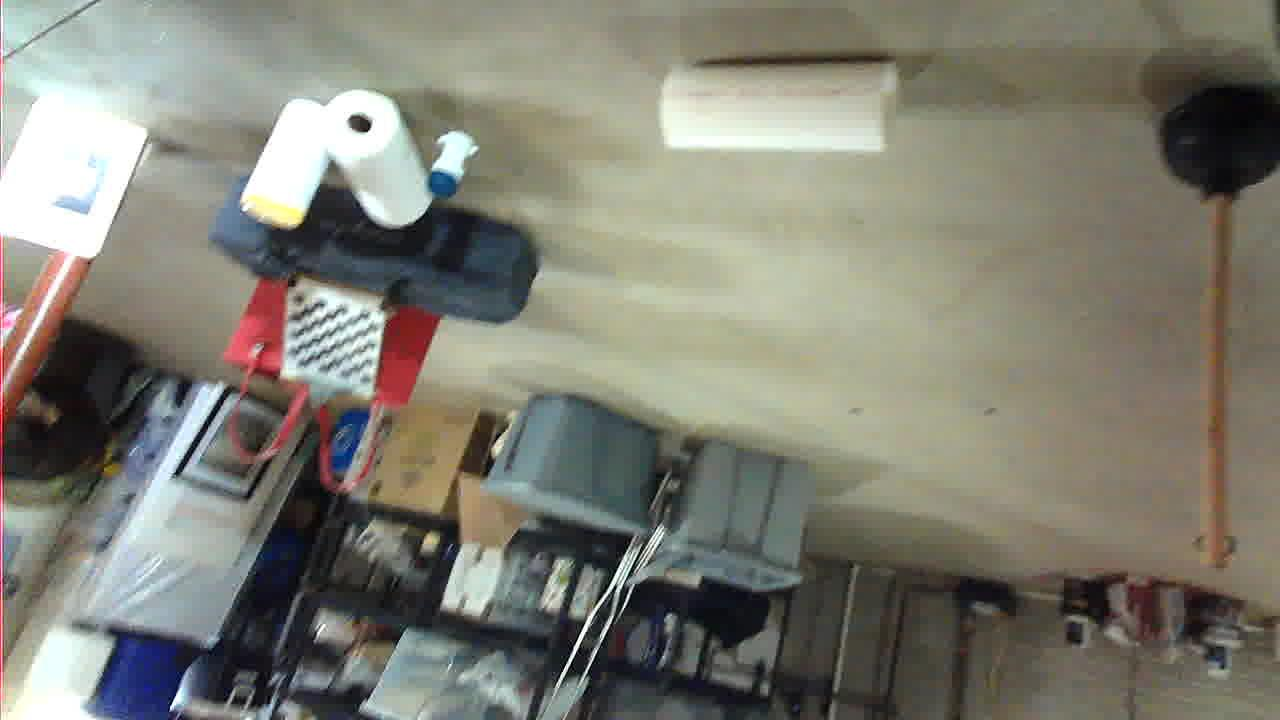coral: (382, 570, 616, 652)
